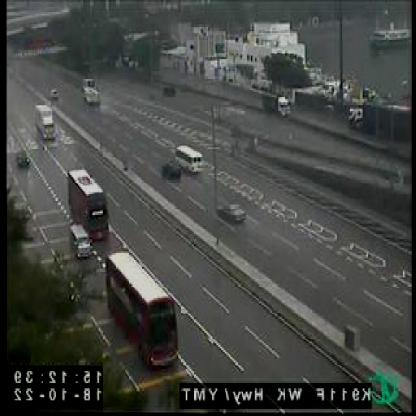Bus: (106, 252, 179, 368), (65, 169, 109, 243), (174, 145, 202, 176)
Car: (67, 223, 90, 260), (217, 202, 246, 225), (15, 150, 31, 171), (47, 86, 60, 99)
Truck: (34, 102, 56, 140), (262, 91, 291, 117), (80, 77, 100, 107)
